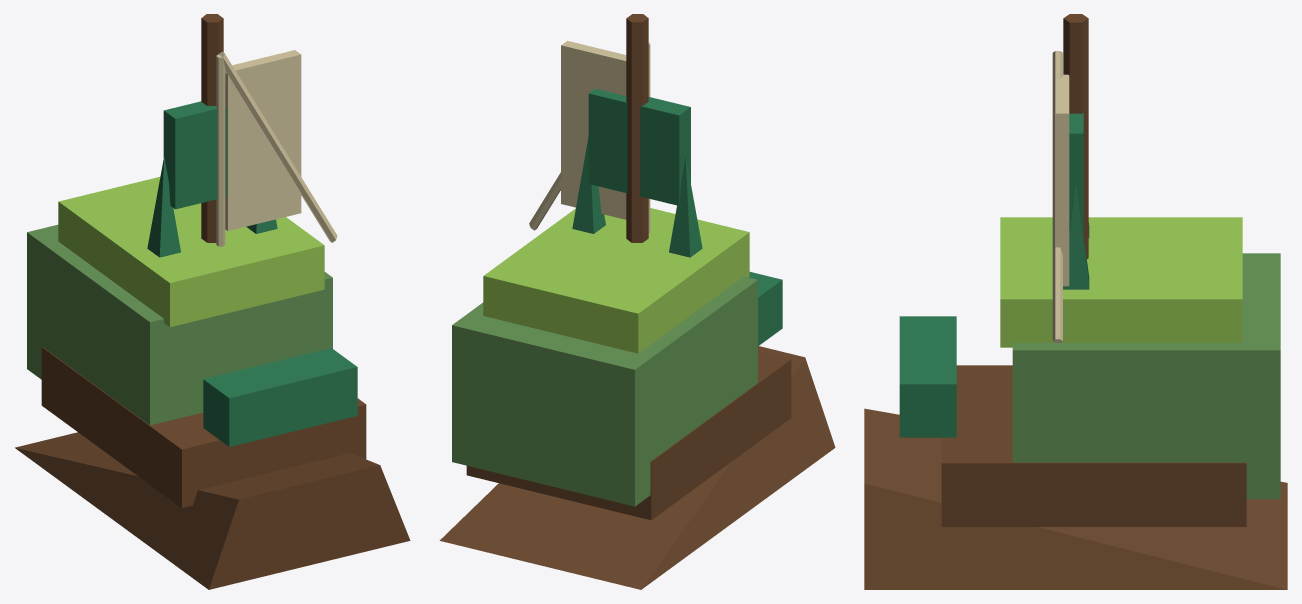
File: transport-ship.obj
3 renders of one model, left to right at view 1: azimuth 30°, elevation 25°; view 2: azimuth 150°, elevation 25°; view 3: azimuth 270°, elevation 25°, orthographic. The views are drawn at different scales.
Visible parts, largest first — view 1: ship; view 2: ship; view 3: ship.
Boxes of the visible parts, x1,y1,x2,y2 form: ship: [15, 14, 410, 589]; ship: [439, 14, 835, 589]; ship: [864, 14, 1287, 589].
Size of the model in its own units: 1.08 by 2.26 by 1.67.
